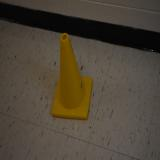cone: (52, 32, 94, 119)
